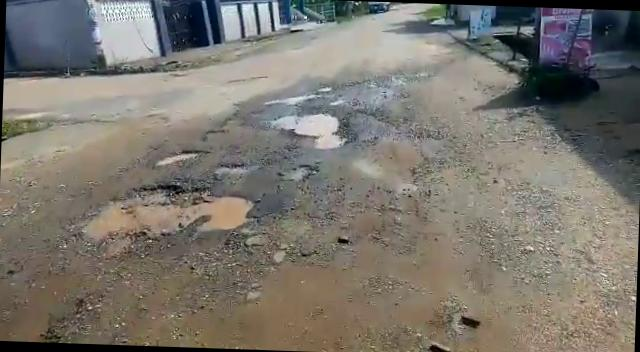pothole: (73, 178, 265, 251), (262, 106, 352, 150), (152, 147, 205, 170), (216, 160, 254, 177)
